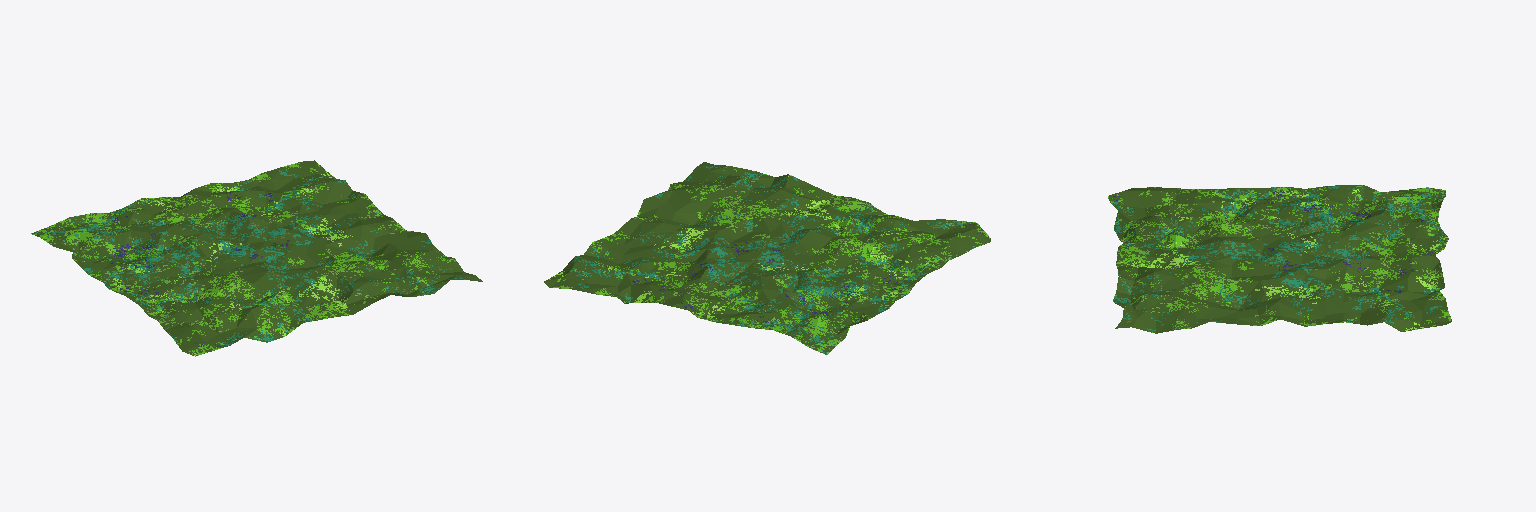
3 views of the same model, side by side, from view 1: azimuth 30°, elevation 25°; view 2: azimuth 150°, elevation 25°; view 3: azimuth 270°, elevation 25° (orthographic).
Parts seen in each view (by area): view 1: Cube; view 2: Cube; view 3: Cube.
Boxes of the visible parts, x1=… form: Cube: x1=31, y1=160, x2=482, y2=356; Cube: x1=544, y1=162, x2=990, y2=354; Cube: x1=1108, y1=185, x2=1451, y2=333.
Size of the model in its own units: 10.12 by 0.6507 by 10.19.
Materials: 1 (1 with a texture image).